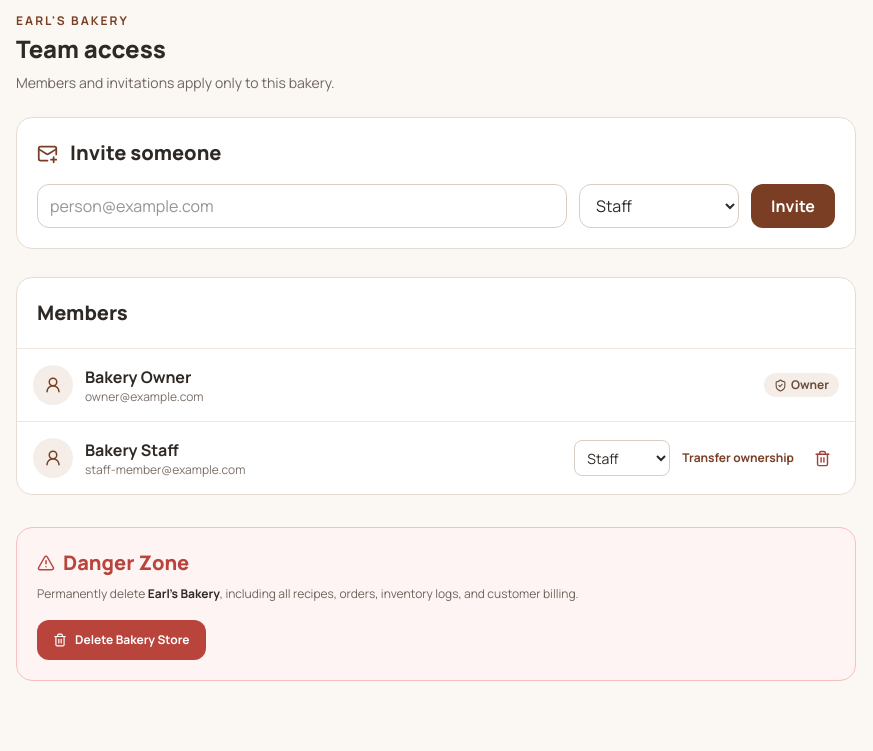
it: bakery workspace adapters and team controls › lets an owner invite once and announces duplicate errors
Expected: the text "Bakery Owner" is shown, [85,366,191,388]
Step 1. Type "staff@example.com" into the field named "Email address" → [302, 206], box [37,184,567,228]
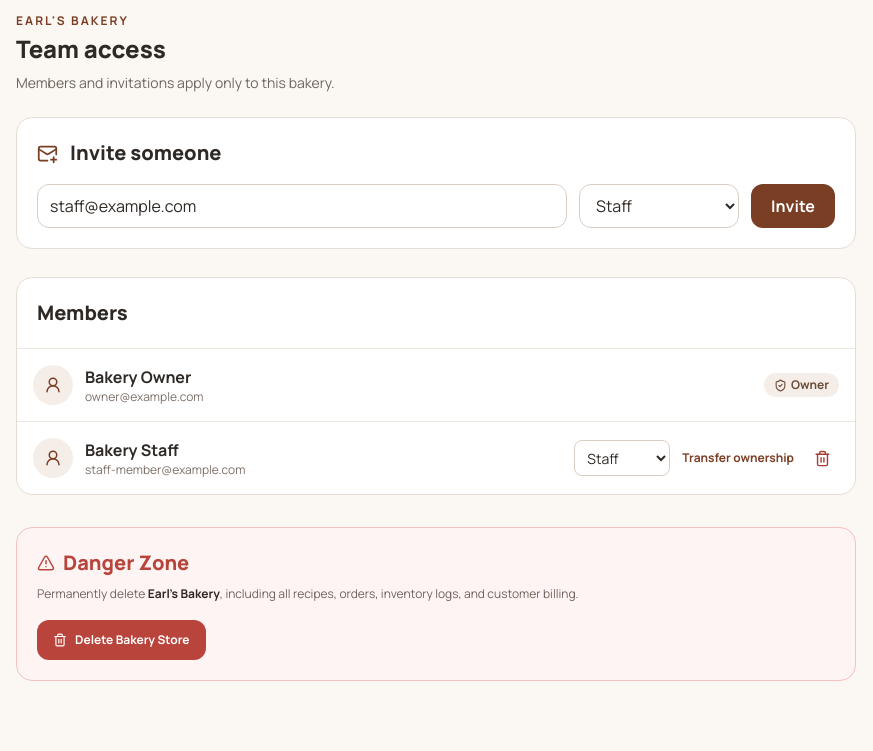
Step 2. Click the button "Invite" → [793, 206], box [751,184,835,228]
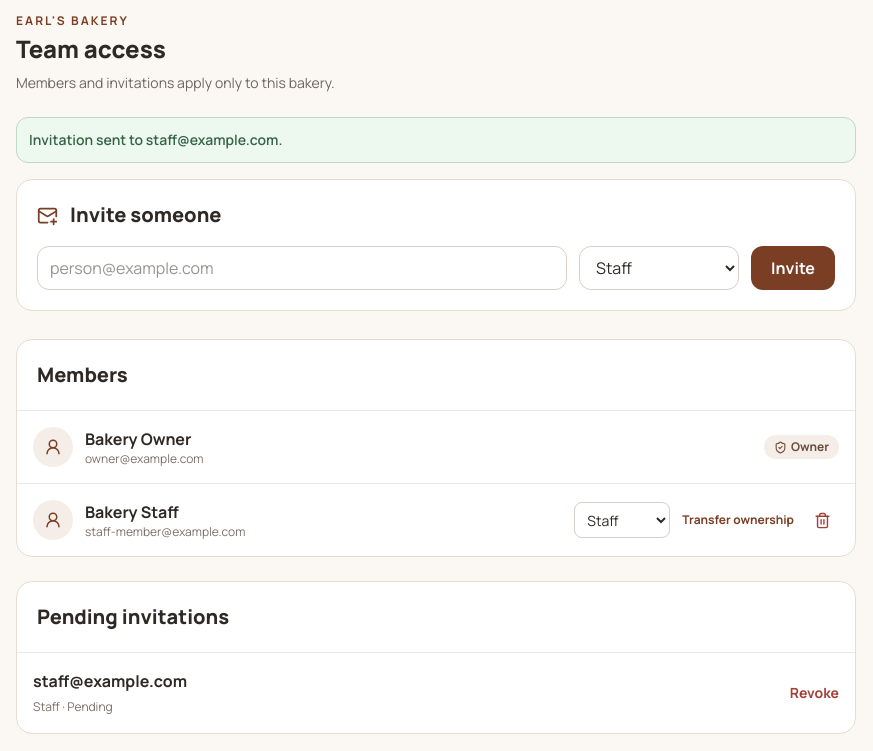
Expected: the message shows "Invitation sent", [29,130,282,149]
Expected: the text "staff@example.com" is shown, [33,670,187,692]
Step 3. Type "staff@example.com" into the field named "Email address" → [302, 268], box [37,246,567,290]
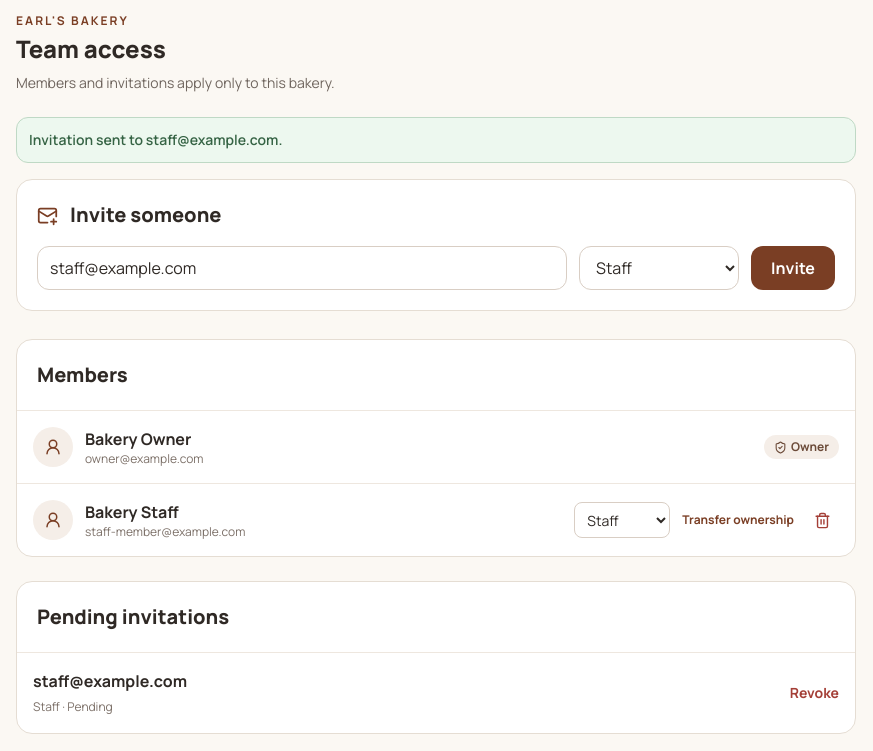
Step 4. Click the button "Invite" → [793, 268], box [751,246,835,290]
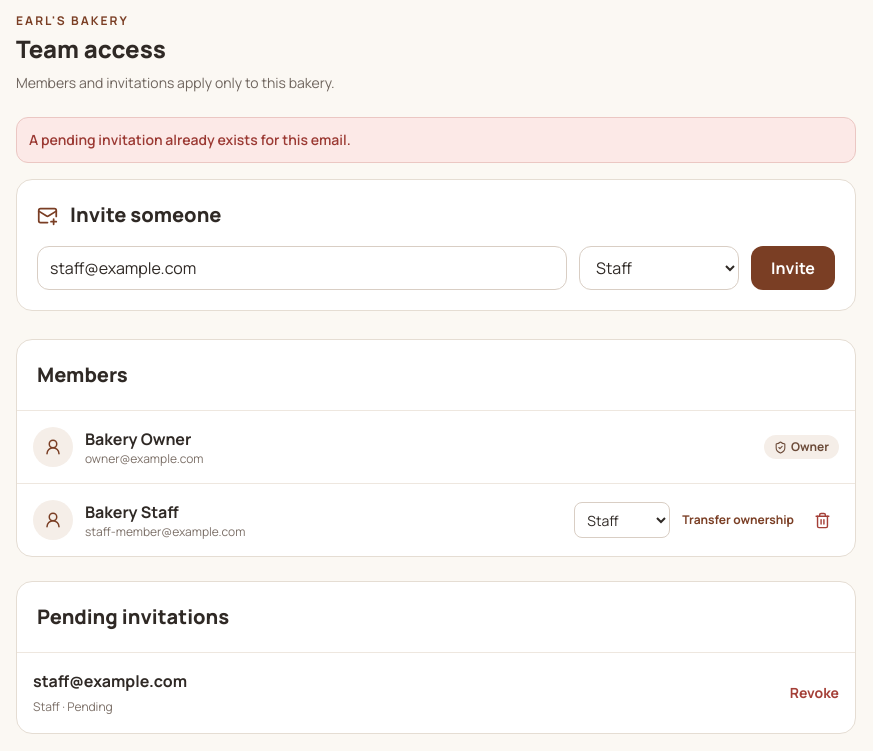
Expected: the message shows "already exists", [29,130,351,149]
